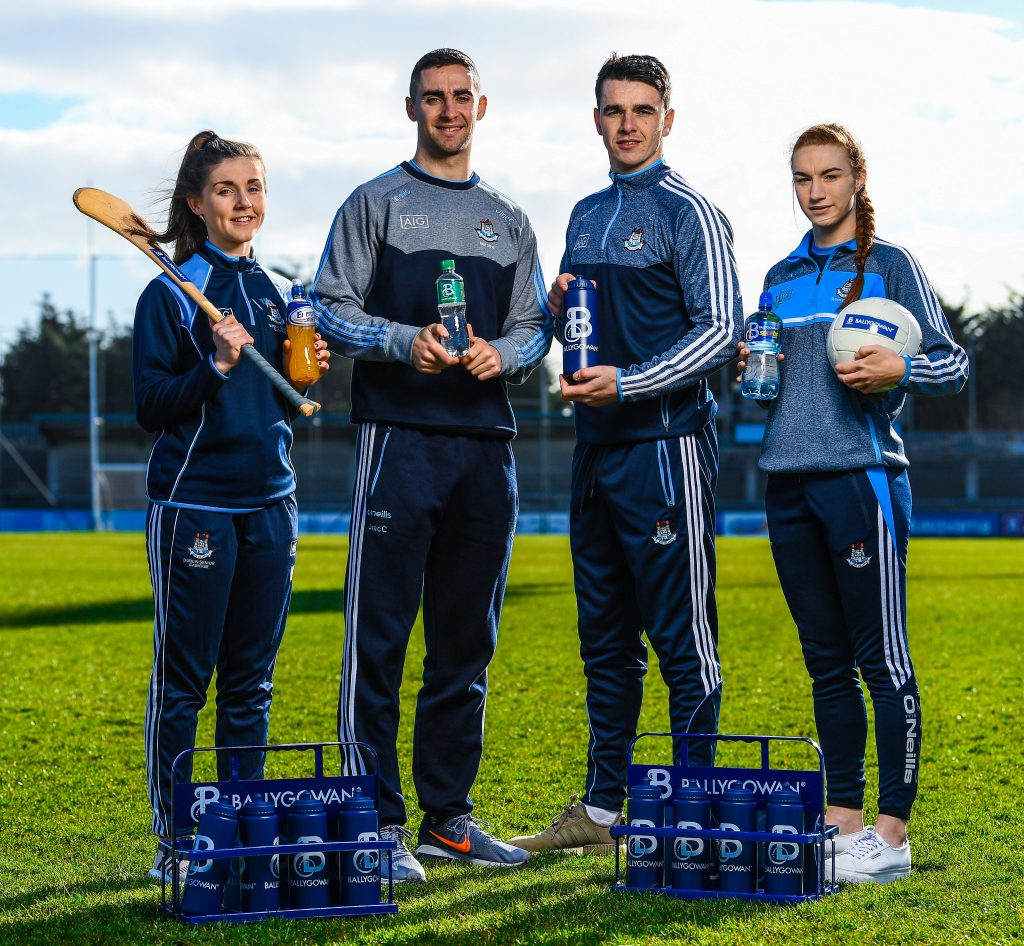ball: (822, 294, 923, 394)
player: (745, 66, 969, 858), (347, 35, 547, 836), (560, 31, 752, 763), (111, 119, 316, 761)
